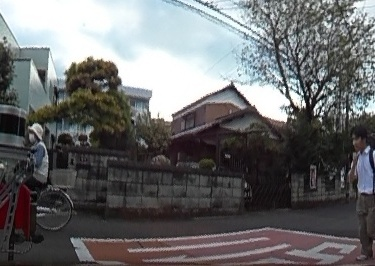person: (350, 122, 375, 261), (19, 117, 51, 214)
